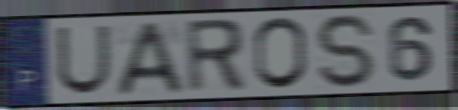6: (386, 14, 437, 85)
A: (114, 19, 187, 98)
O: (251, 15, 310, 92)
R: (182, 16, 248, 96)
S: (313, 12, 380, 91)
U: (54, 23, 113, 97)
